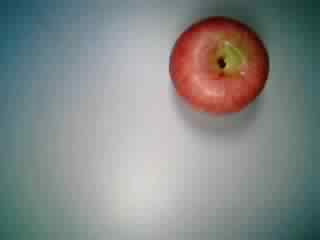apple: (167, 17, 271, 118)
